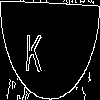K: (25, 24, 43, 72)
